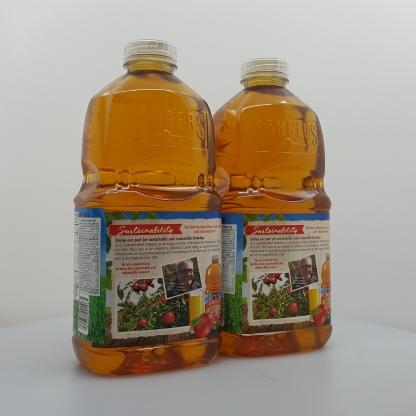-------------: (72, 39, 222, 375), (209, 58, 332, 357)
